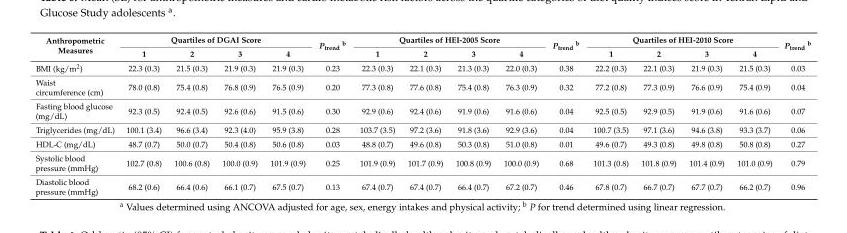table: (34, 34, 810, 196)
table column: (34, 34, 119, 196), (585, 34, 634, 196), (119, 34, 167, 196), (167, 34, 215, 196), (215, 34, 263, 196), (263, 34, 311, 196), (352, 34, 400, 196), (400, 34, 448, 196), (448, 34, 496, 196), (496, 34, 544, 196), (634, 34, 682, 196), (682, 34, 730, 196), (730, 34, 777, 196), (311, 34, 352, 196), (544, 34, 585, 196), (777, 34, 810, 196)
table column header: (34, 34, 810, 59)
table row: (34, 74, 810, 98), (34, 98, 810, 122), (34, 150, 810, 174), (34, 174, 810, 196), (34, 59, 810, 74), (34, 122, 810, 136), (34, 136, 810, 150), (34, 46, 810, 59), (34, 34, 810, 46)
table spanning cell: (119, 34, 311, 46), (352, 34, 544, 46), (585, 34, 777, 46), (34, 34, 119, 59), (311, 34, 352, 59), (544, 34, 585, 59), (777, 34, 810, 59)
